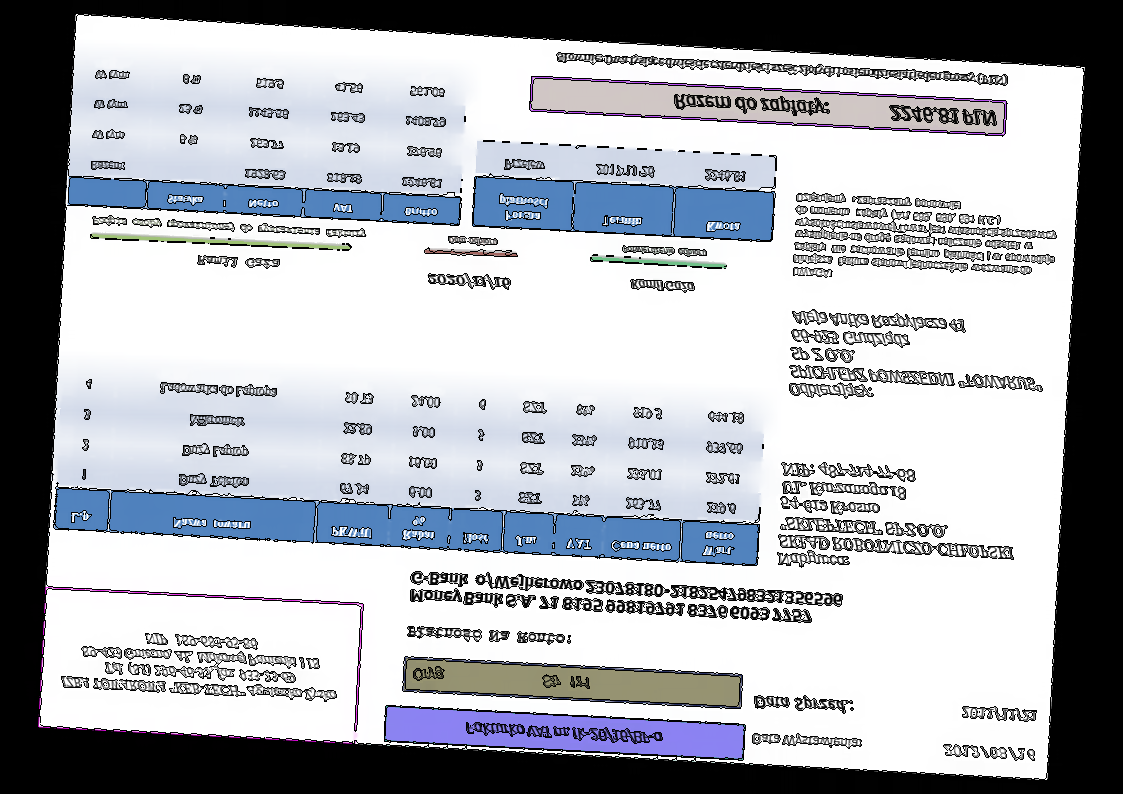Table: (52, 364, 766, 569), (66, 54, 468, 227), (471, 139, 777, 244)
TextBox: (774, 457, 1020, 581), (789, 189, 1062, 293), (784, 306, 1051, 412), (407, 567, 846, 629), (58, 625, 341, 708), (553, 49, 1010, 90), (670, 89, 1000, 131), (90, 212, 369, 243), (460, 717, 666, 748), (410, 663, 593, 693), (403, 621, 573, 649), (750, 691, 862, 716), (749, 731, 865, 754), (940, 740, 1038, 764), (423, 270, 512, 293), (195, 252, 285, 272), (958, 704, 1040, 725), (620, 242, 708, 261), (626, 276, 697, 296), (445, 233, 501, 249)
